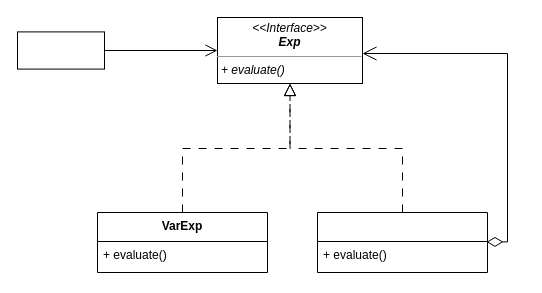
This 542x293 diagram has some shape labels left out. The shapes that lost their labels are listed below. From the top down, each one's box as (x1, y1, x2, y2) in pixels, then its label:
(16, 31, 104, 69): Client
(316, 212, 488, 272): AndExp
